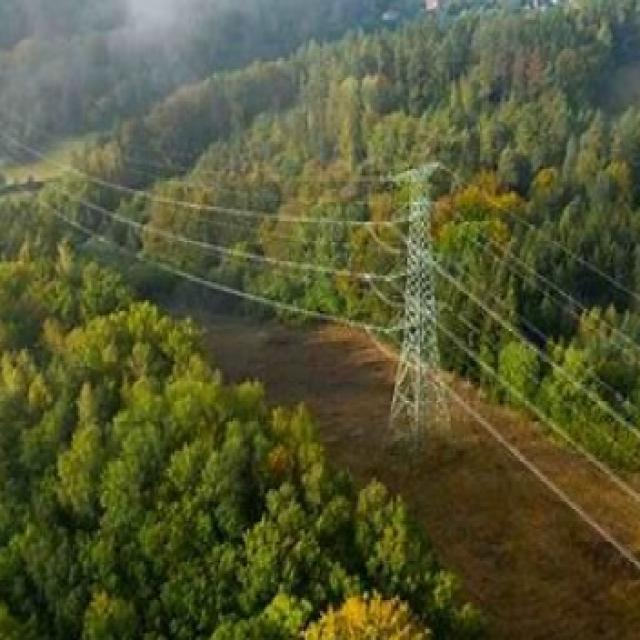utility poles: (357, 138, 495, 444)
